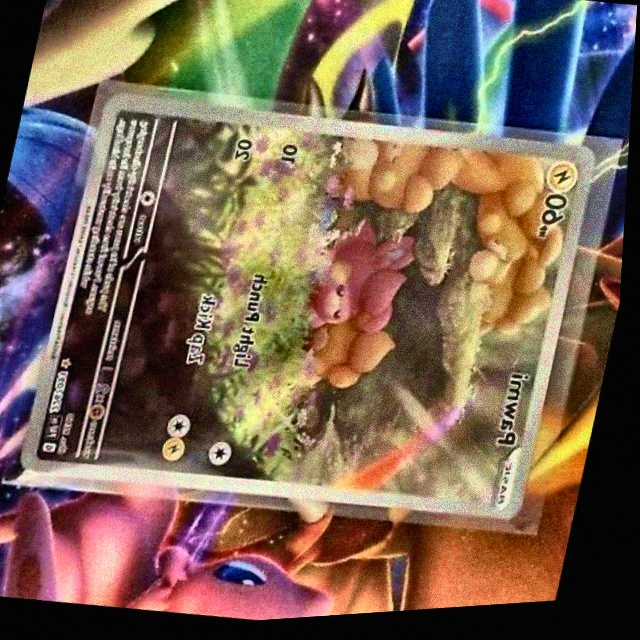card: (27, 93, 598, 527)
